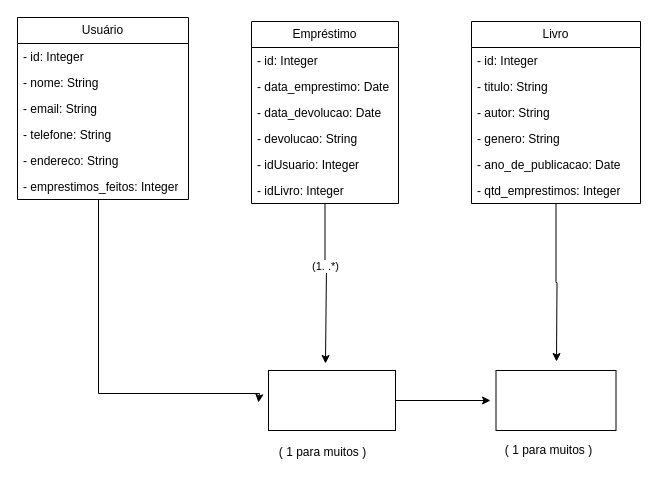
Some shapes in this 658 by 483 pixel diagram are drawn without their labels. Each missing label, with the centre of its shape:
"Livro - Empréstimo" belongs at [555,400].
"Usuário - Empréstimo" belongs at [332,400].
